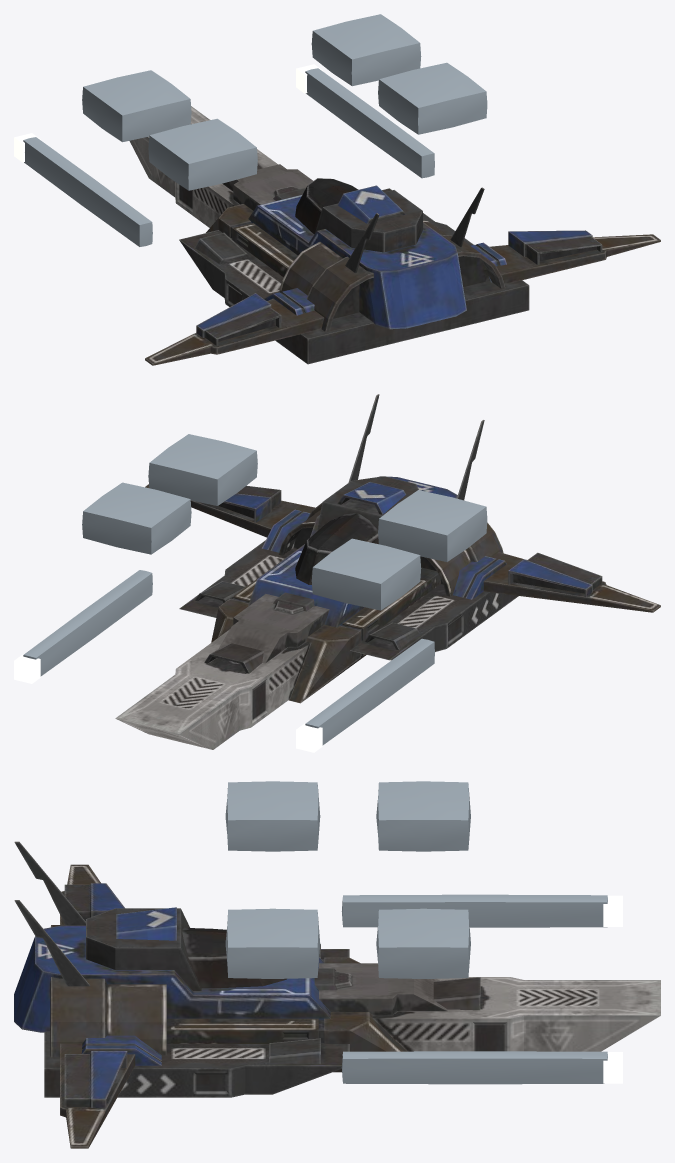
Rendered from player_sentinelle.glb.
3 views of the same model, one above another, from view 1: azimuth 30°, elevation 25°; view 2: azimuth 150°, elevation 25°; view 3: azimuth 270°, elevation 25° (orthographic). The views are drawn at different scales.
Parts seen in each view (by area): view 1: player_sentinelle; view 2: player_sentinelle; view 3: player_sentinelle.
Boxes of the visible parts, x1,y1,x2,y2 form: player_sentinelle: (14, 14, 660, 365); player_sentinelle: (14, 394, 660, 752); player_sentinelle: (14, 781, 660, 1148).
Bounding box in the file's own units: 1.55 × 0.4679 × 1.5.
3 materials, 1 textured.
